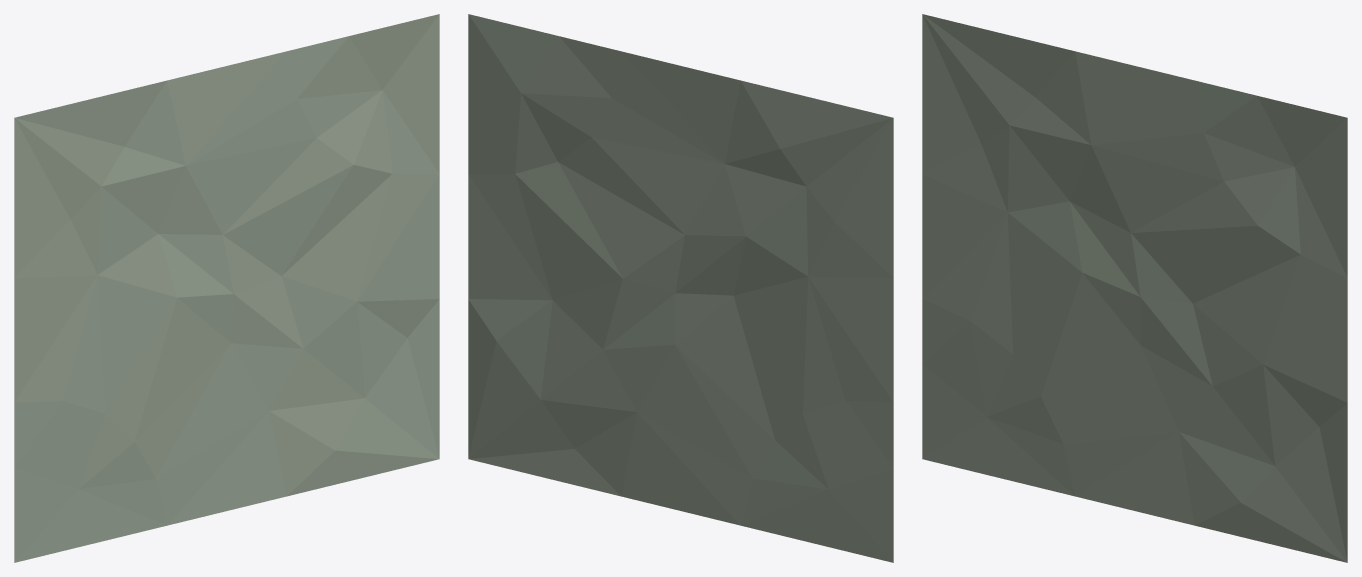
File: Wallpapper_05.fbx
3 renders of one model, left to right at view 1: azimuth 30°, elevation 25°; view 2: azimuth 150°, elevation 25°; view 3: azimuth 330°, elevation 25°, orthographic.
Visible parts, largest first — view 1: Wallpapper_05; view 2: Wallpapper_05; view 3: Wallpapper_05.
Part boxes in pixels (x1,y1,x2,y2): Wallpapper_05: (14, 14, 439, 562); Wallpapper_05: (468, 14, 893, 562); Wallpapper_05: (922, 14, 1347, 562).
Bounding box in the file's own units: 100 × 100 × 1.68.
1 material, 1 textured.
